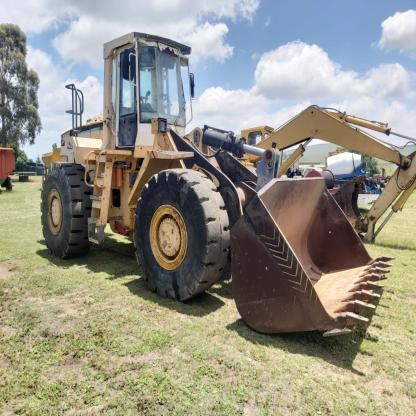bull_dozer/loader/grader: (34, 26, 394, 354)
